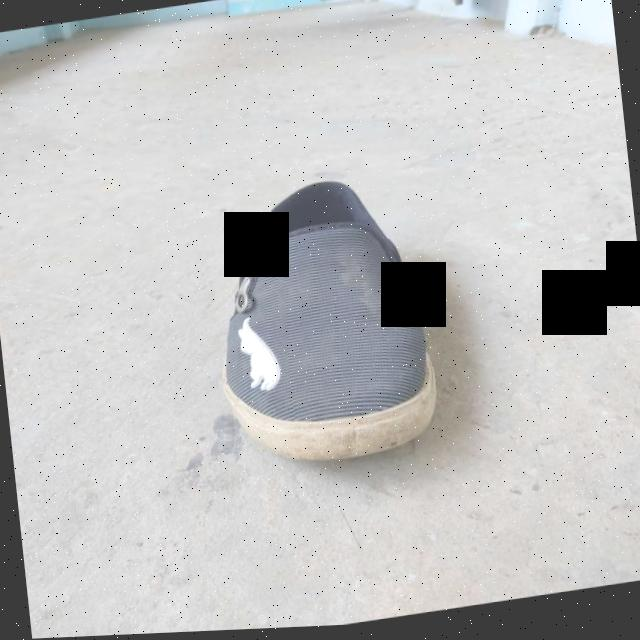shoe: (201, 170, 444, 481)
